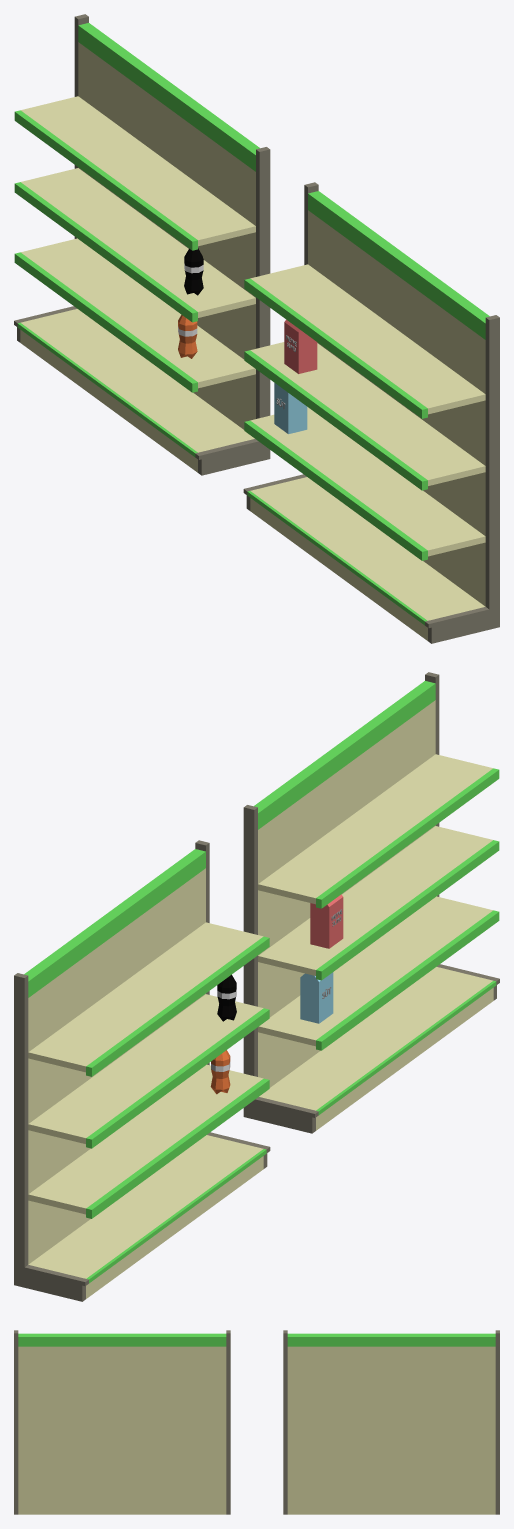
The model's file is İçecekler.fbx.
3 views of the same model, one above another, from view 1: azimuth 30°, elevation 25°; view 2: azimuth 150°, elevation 25°; view 3: azimuth 270°, elevation 25° (orthographic). The views are drawn at different scales.
Parts seen in each view (by area): view 1: RafReyon.005, RafReyon.007, MeyveSuyu, Süt, drink_002.001, drink_002; view 2: RafReyon.007, RafReyon.005, Süt, MeyveSuyu, drink_002.001, drink_002; view 3: RafReyon.005, RafReyon.007.
Boxes of the visible parts, <box> form: RafReyon.005: <box>243,182,499,643</box>; RafReyon.007: <box>14,14,270,475</box>; MeyveSuyu: <box>284,319,317,373</box>; Süt: <box>274,383,307,434</box>; drink_002.001: <box>184,248,203,295</box>; drink_002: <box>178,315,197,358</box>; RafReyon.007: <box>14,840,270,1301</box>; RafReyon.005: <box>243,672,499,1133</box>; Süt: <box>300,972,333,1023</box>; MeyveSuyu: <box>310,894,343,948</box>; drink_002.001: <box>217,974,236,1021</box>; drink_002: <box>210,1050,230,1094</box>; RafReyon.005: <box>14,1330,230,1514</box>; RafReyon.007: <box>283,1330,499,1514</box>.
Bounding box in the file's own units: 64.28 × 256 × 621.
